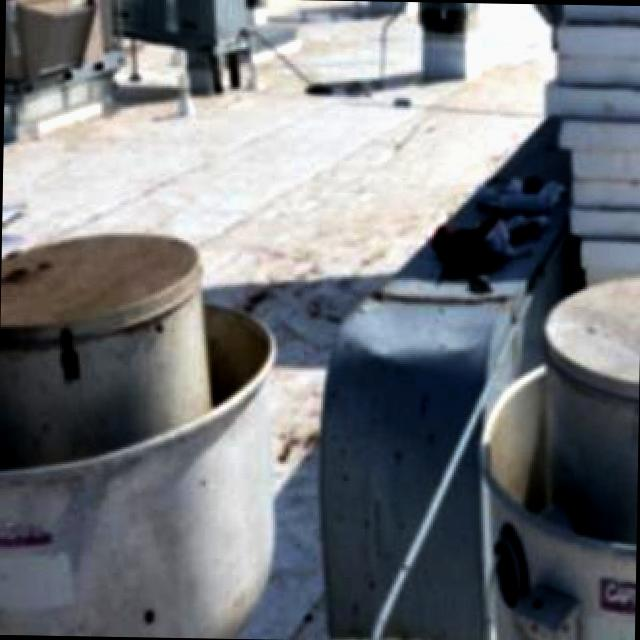GRAVITY-VENT: (0, 198, 314, 639), (470, 264, 640, 640)
